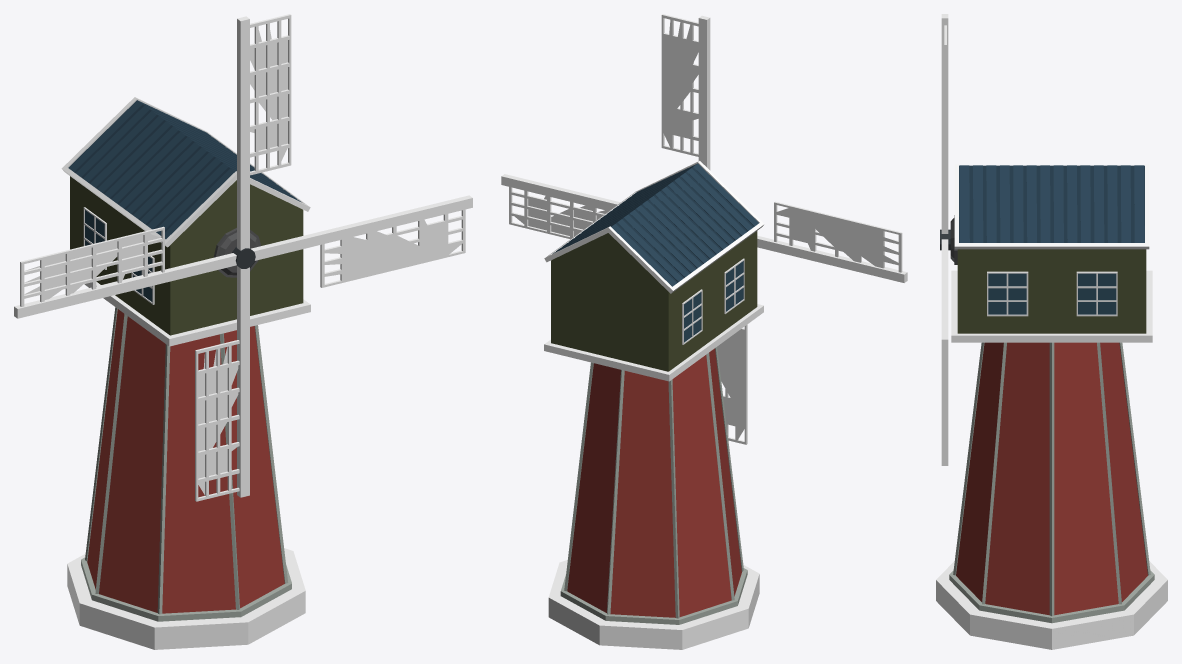
Rendered from Windmill_1.fbx.
The picture shows the model from 3 angles, left to right: view 1: azimuth 30°, elevation 25°; view 2: azimuth 150°, elevation 25°; view 3: azimuth 270°, elevation 25°; orthographic projection. The views are drawn at different scales.
Visible parts, largest first — view 1: Windmill_1; view 2: Windmill_1; view 3: Windmill_1.
Boxes of the visible parts, left/top/right/bottom form: Windmill_1: left=14, top=14, right=472, bottom=649; Windmill_1: left=501, top=14, right=907, bottom=649; Windmill_1: left=936, top=14, right=1167, bottom=649.
Size of the model in its own units: 670 by 875 by 315.
